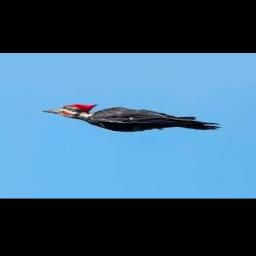Woodpecker: (44, 103, 222, 132)
